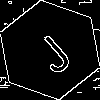J: (25, 25, 76, 77)
